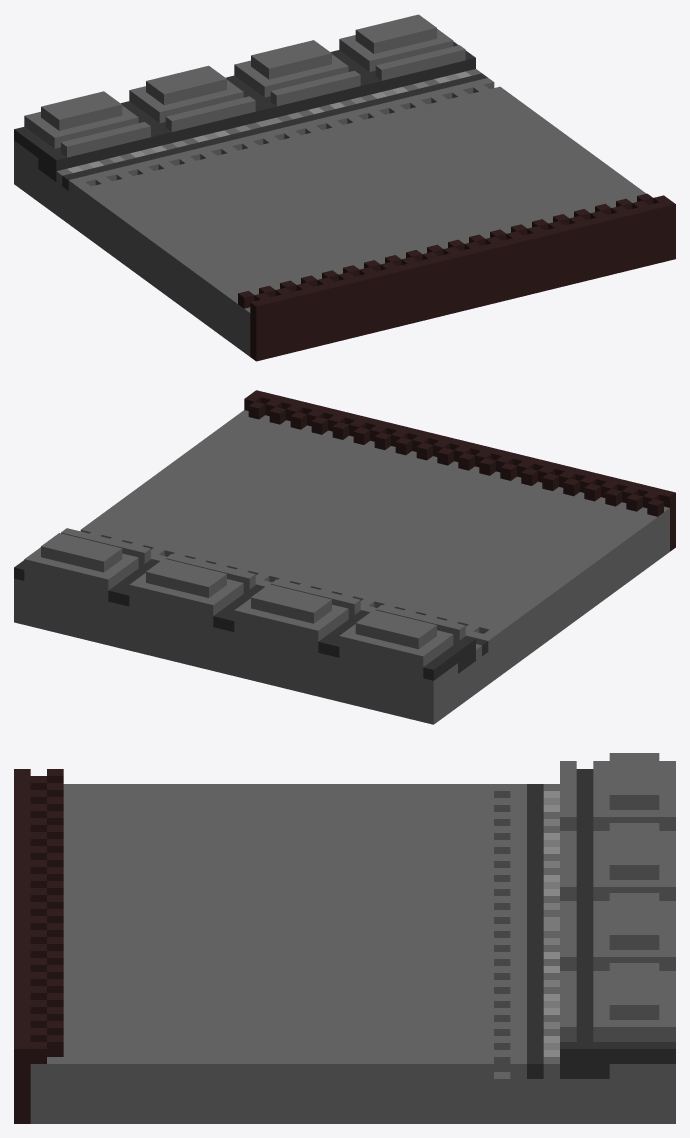
Rendered from ylica goroda-3.obj.
The picture shows the model from 3 angles, top to bottom: view 1: azimuth 30°, elevation 25°; view 2: azimuth 150°, elevation 25°; view 3: azimuth 270°, elevation 25°; orthographic projection. The views are drawn at different scales.
Size of the model in its own units: 4 by 0.7 by 4.
1 material, 1 textured.
